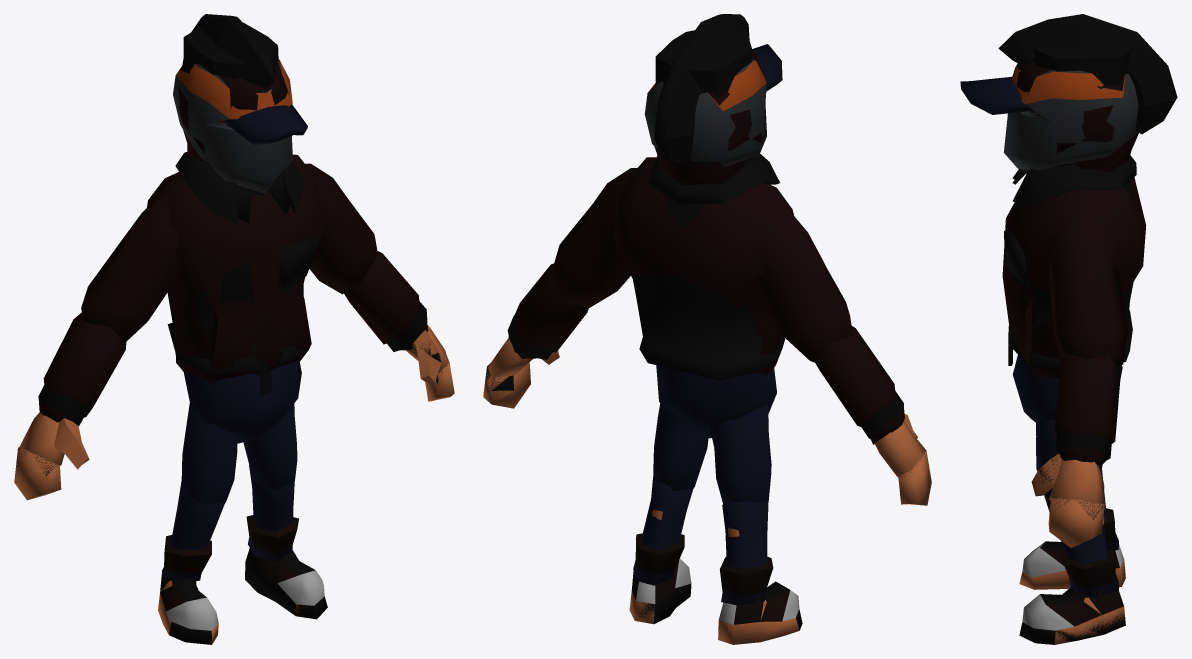
Rendered from Character_Test_2.FBX.
The picture shows the model from 3 angles, left to right: view 1: azimuth 30°, elevation 25°; view 2: azimuth 150°, elevation 25°; view 3: azimuth 270°, elevation 25°; orthographic projection.
Parts seen in each view (by area): view 1: Hoody_Upper, Hoody_Arm_R_1, helmet, Jacket_O_Body_Upper, Pants_Body_Lower, Hoody_Arm_L_1, Hoody_Arm_R_2, pants_Leg_R_1, Hoody_Arm_L_2, Boot_foot_heavy_L, pants_Leg_L_1, Hairstyle_3 (+16 smaller); view 2: Hoody_Upper, Jacket_O_Body_Upper, Hoody_Arm_R_1, Hoody_Arm_L_1, Hairstyle_3, helmet, Pants_Body_Lower, pants_Leg_R_1, Hoody_Arm_R_2, Jacket_Body_Upper, Hoody_Arm_L_2, pants_Leg_L_1 (+15 smaller); view 3: Hoody_Upper, helmet, Hoody_Arm_L_1, Hairstyle_3, Hoody_Arm_L_2, Jacket_O_Body_Upper, Hairstyle_1, Hood, Boot_foot_heavy_L, Fingers_R, Jacket_Body_Upper, Pants_Body_Lower (+14 smaller).
Boxes of the visible parts, <box> form: Hoody_Upper: <box>147,154,323,383</box>; Hoody_Arm_R_1: <box>81,197,183,341</box>; helmet: <box>173,59,292,193</box>; Jacket_O_Body_Upper: <box>167,152,308,395</box>; Pants_Body_Lower: <box>183,361,301,443</box>; Hoody_Arm_L_1: <box>305,163,377,294</box>; Hoody_Arm_R_2: <box>38,312,126,425</box>; pants_Leg_R_1: <box>181,403,237,503</box>; Hoody_Arm_L_2: <box>344,251,428,350</box>; Boot_foot_heavy_L: <box>245,548,324,619</box>; pants_Leg_L_1: <box>243,403,297,490</box>; Hairstyle_3: <box>182,14,275,88</box>; Hoody_Upper: <box>614,157,793,375</box>; Jacket_O_Body_Upper: <box>636,154,783,380</box>; Hoody_Arm_R_1: <box>750,202,852,362</box>; Hoody_Arm_L_1: <box>551,167,637,307</box>; Hairstyle_3: <box>654,14,749,161</box>; helmet: <box>644,59,766,166</box>; Pants_Body_Lower: <box>656,365,776,439</box>; pants_Leg_R_1: <box>709,404,771,502</box>; Hoody_Arm_R_2: <box>814,326,904,444</box>; Jacket_Body_Upper: <box>632,161,764,319</box>; Hoody_Arm_L_2: <box>508,263,588,358</box>; pants_Leg_L_1: <box>653,403,708,491</box>; Hoody_Upper: <box>1002,177,1146,378</box>; helmet: <box>1004,66,1138,170</box>; Hoody_Arm_L_1: <box>1046,211,1128,366</box>; Hairstyle_3: <box>998,14,1177,134</box>; Hoody_Arm_L_2: <box>1054,352,1120,467</box>; Jacket_O_Body_Upper: <box>1008,164,1133,368</box>; Hairstyle_1: <box>1033,45,1132,84</box>; Hood: <box>1016,61,1138,171</box>; Boot_foot_heavy_L: <box>1022,586,1123,630</box>; Fingers_R: <box>1048,498,1104,547</box>; Jacket_Body_Upper: <box>1004,155,1136,325</box>; Pants_Body_Lower: <box>1012,355,1122,423</box>.
Bounding box in the file's own units: 0.051 × 0.0224 × 0.0676.
